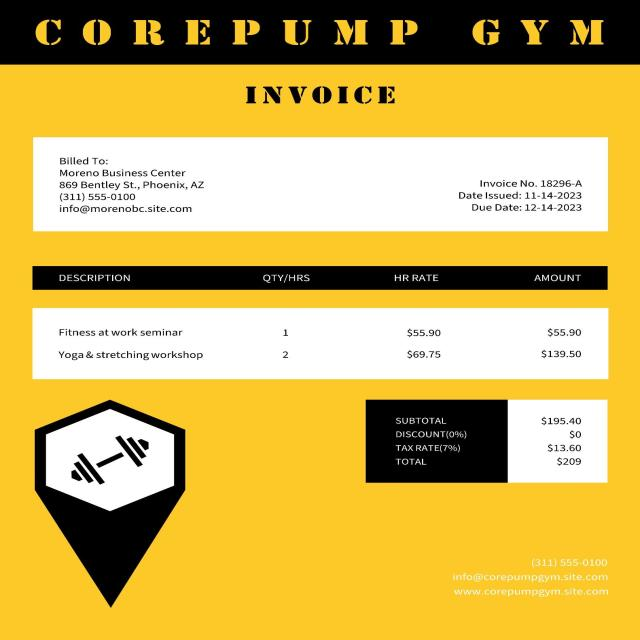paragraph: (27, 10, 617, 58), (392, 415, 587, 473), (446, 543, 625, 605), (59, 154, 212, 217), (453, 174, 583, 217), (240, 78, 408, 108)
table: (32, 266, 610, 378)
